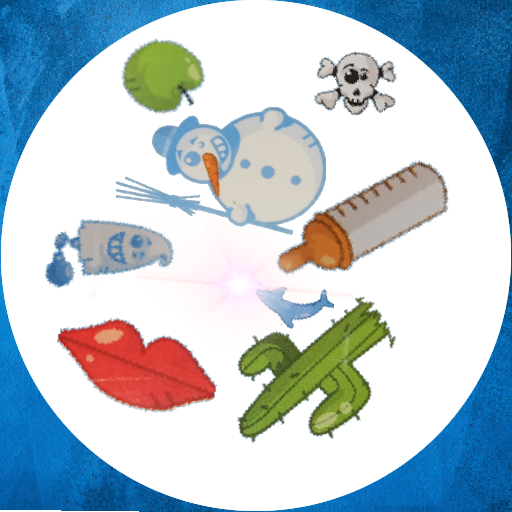apple_icon: (121, 29, 207, 115)
bottle_icon: (266, 126, 458, 318)
cactus_icon: (219, 277, 415, 473)
dolphin_icon: (249, 259, 334, 344)
ghost_icon: (42, 186, 177, 321)
lips_icon: (50, 291, 217, 458)
skull_icon: (311, 35, 406, 130)
snowman_icon: (116, 74, 326, 284)
